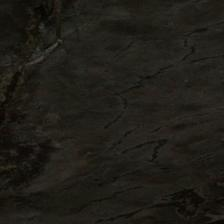Crack: (118, 124, 167, 224), (20, 21, 92, 84), (120, 186, 180, 218), (84, 77, 127, 114), (19, 51, 49, 82)
